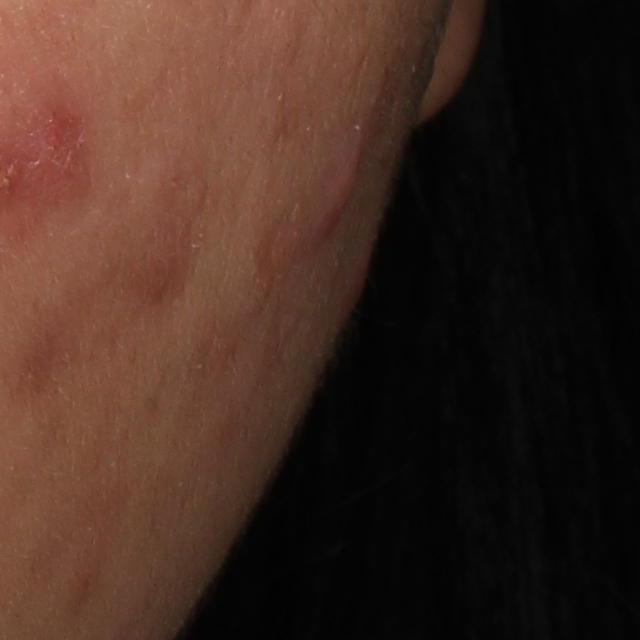papule: (309, 146, 368, 257)
